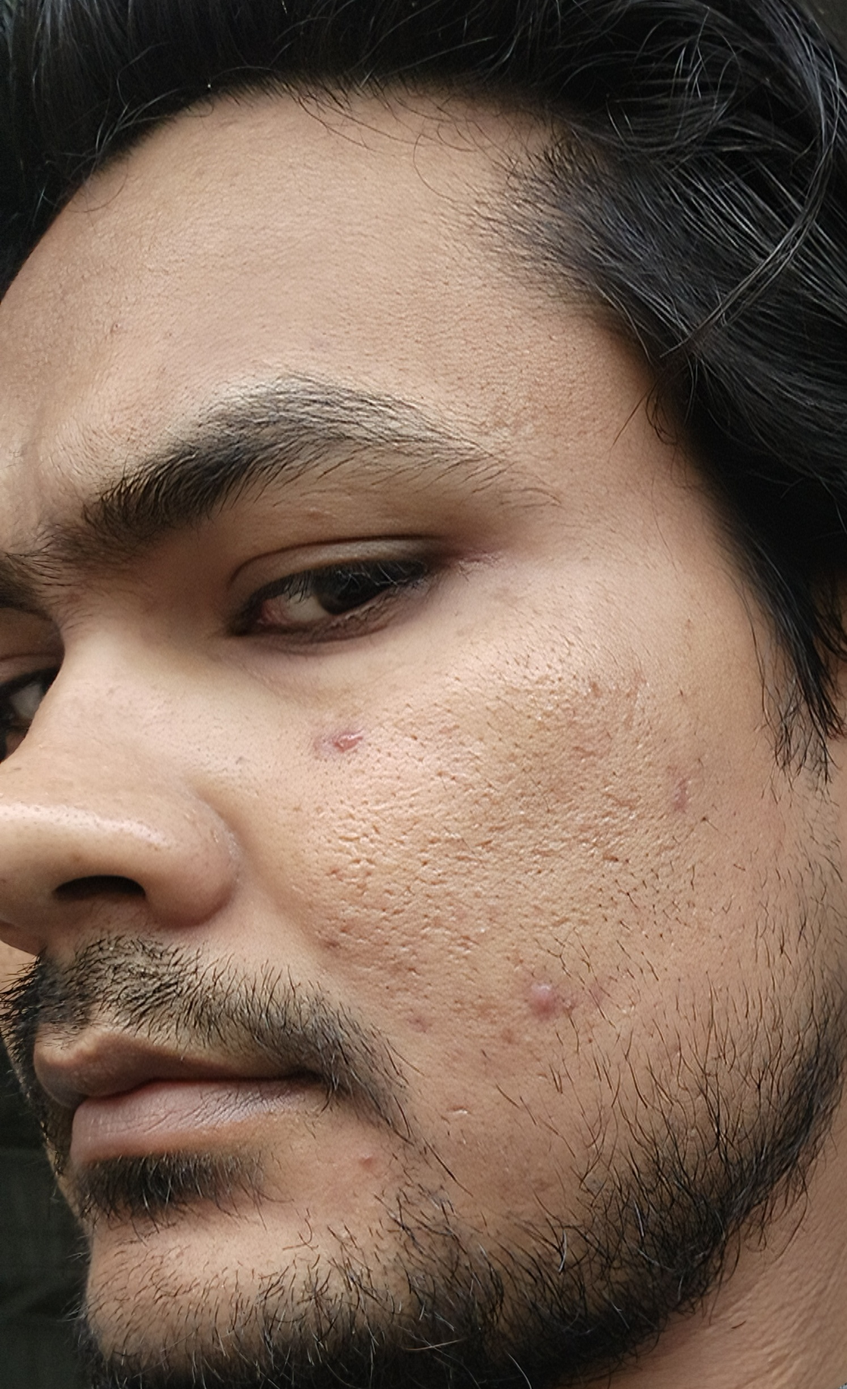papule: (513, 972, 577, 1036), (316, 722, 398, 770)
